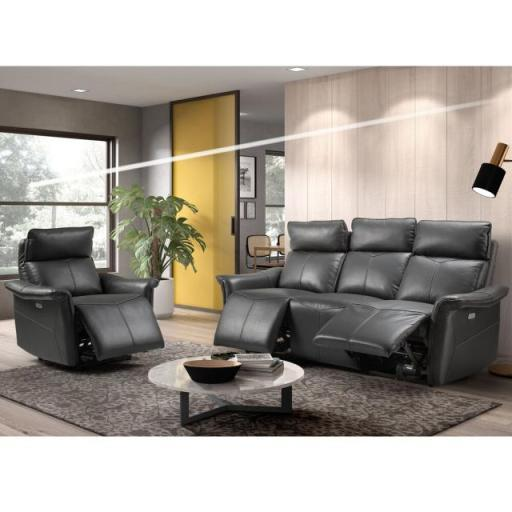sofa: (233, 203, 511, 397), (13, 219, 171, 386)
